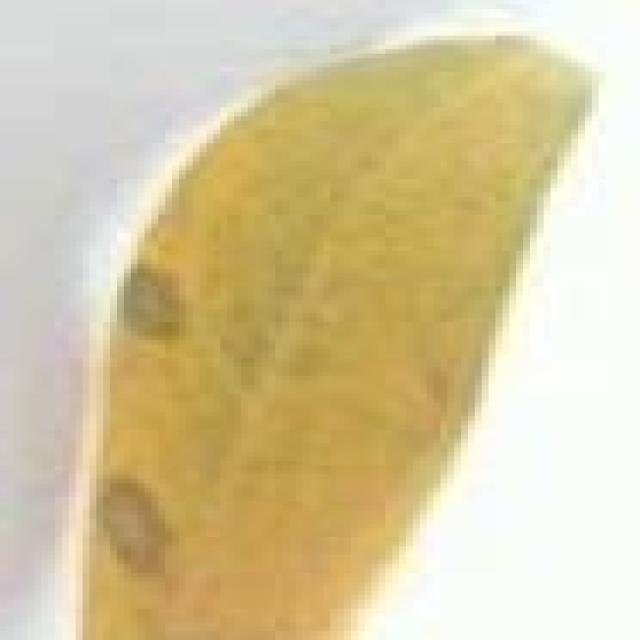Peacock Eye: (83, 36, 585, 636)
